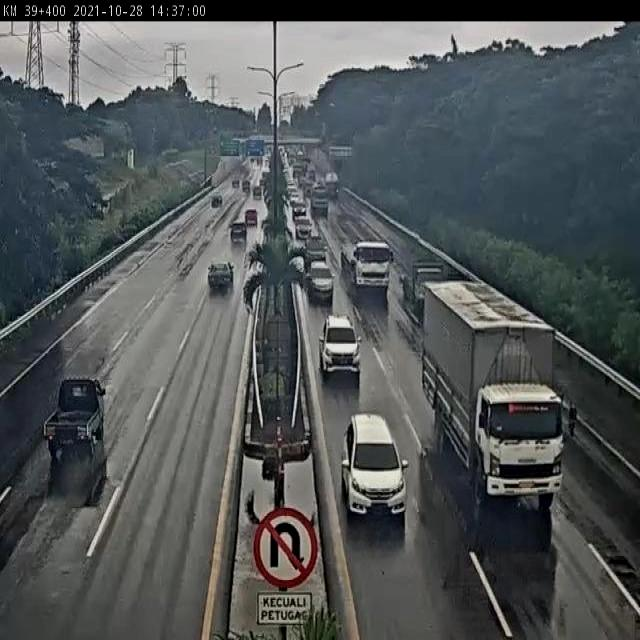Car: (340, 412, 409, 524), (318, 314, 361, 379), (305, 260, 333, 304), (208, 260, 235, 292), (304, 235, 327, 268), (294, 216, 312, 240), (229, 222, 247, 244), (292, 199, 306, 221), (245, 209, 258, 227), (211, 194, 222, 207), (253, 186, 262, 198)
Truck: (422, 279, 578, 507), (44, 376, 108, 459), (339, 238, 394, 292), (402, 259, 445, 311), (310, 185, 329, 215), (324, 169, 340, 197), (302, 179, 314, 199), (232, 174, 240, 187)
